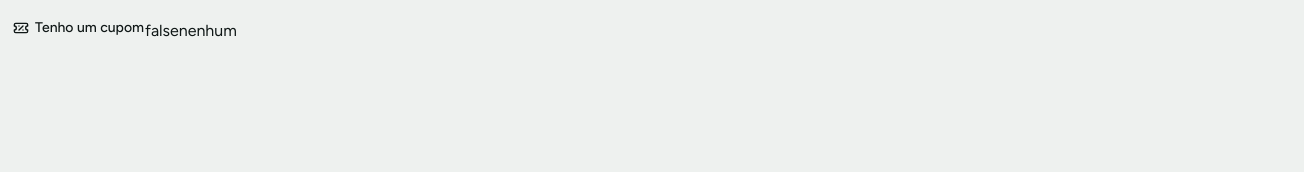
Test: CouponField + useCoupon › cupom que não vale: mensagem genérica e nenhum desconto
Click the button "Tenho um cupom": (78, 28) [12,12,145,44]
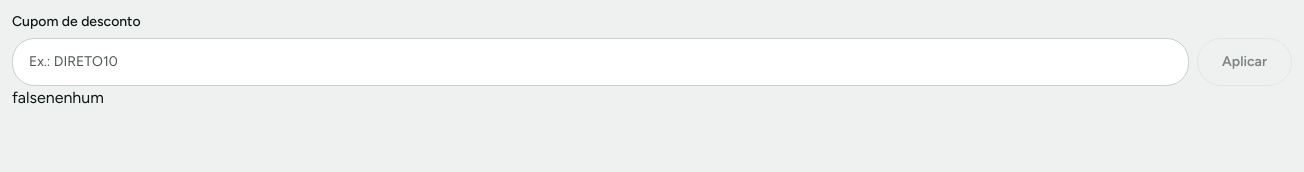
In the field labelled "Cupom de desconto": (600, 62) [29,42,1172,82], type "CHUTE"
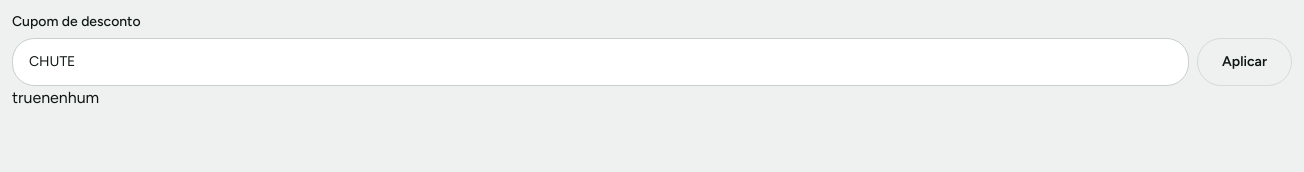
Click the button "Aplicar": (1244, 62) [1197,38,1292,86]
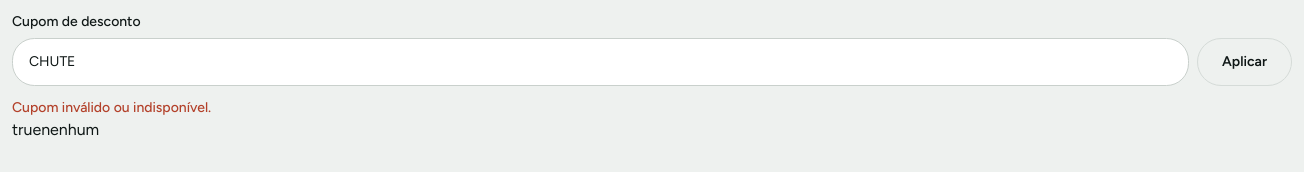
Expected: the text with test id "applied" reads "nenhum", [41,120,99,139]
Expected: the message reads "Cupom inválido ou indisponível.", [12,99,211,116]
